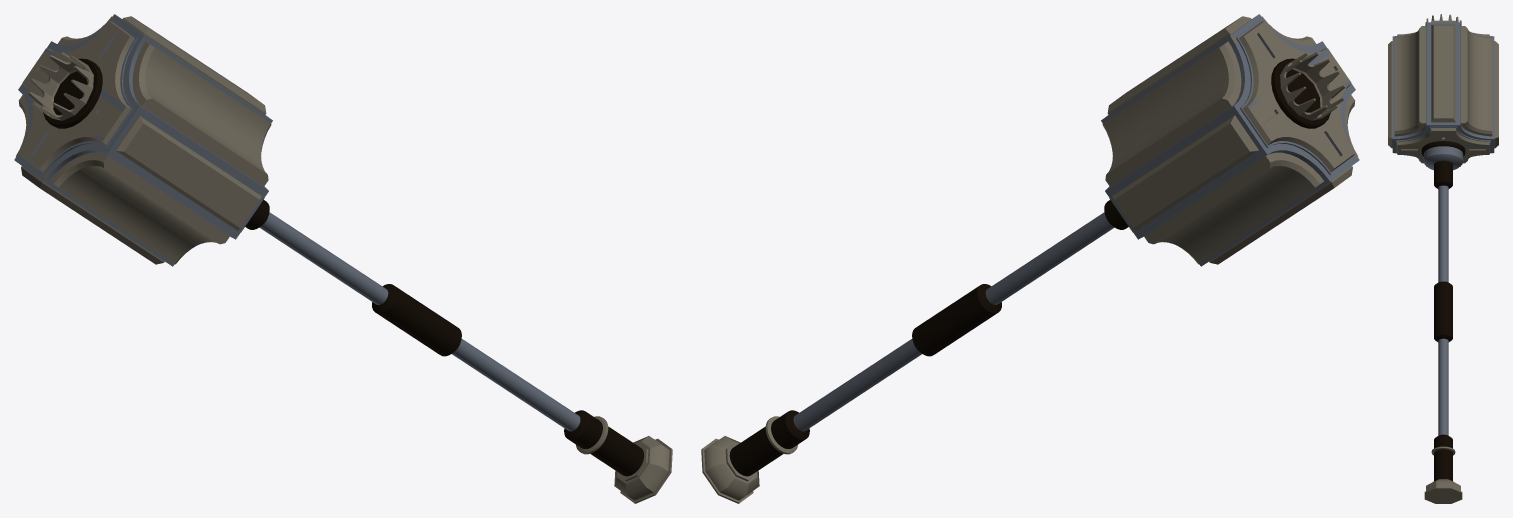
Rendered from mace.glb.
3 renders of one model, left to right at view 1: azimuth 30°, elevation 25°; view 2: azimuth 150°, elevation 25°; view 3: azimuth 270°, elevation 25°, orthographic. The views are drawn at different scales.
Parts seen in each view (by area): view 1: edge, mace, handle 2, handle 01, pummel, crown.001, brake.001; view 2: edge, mace, handle 2, handle 01, pummel, crown.001, brake.001; view 3: edge, mace, handle 2, handle 01, pummel, brake, brake.001.
Boxes of the visible parts, <box> form: edge: <box>16,16,271,264</box>; mace: <box>14,14,272,266</box>; handle 2: <box>245,200,644,476</box>; handle 01: <box>259,212,580,431</box>; pummel: <box>614,436,672,503</box>; crown.001: <box>28,51,93,120</box>; brake.001: <box>43,58,102,128</box>; edge: <box>1102,16,1357,264</box>; mace: <box>1101,14,1359,266</box>; handle 2: <box>729,200,1128,476</box>; handle 01: <box>793,212,1114,431</box>; pummel: <box>701,436,759,503</box>; crown.001: <box>1280,52,1345,120</box>; brake.001: <box>1271,58,1330,128</box>; edge: <box>1388,24,1498,163</box>; mace: <box>1392,20,1494,166</box>; handle 2: <box>1434,160,1452,481</box>; handle 01: <box>1438,185,1448,435</box>; pummel: <box>1424,479,1462,503</box>; brake: <box>1423,146,1463,170</box>; brake.001: <box>1421,141,1465,156</box>.
Size of the model in its own units: 368 by 329 by 96.6.
Materials: 1 (1 with a texture image).
